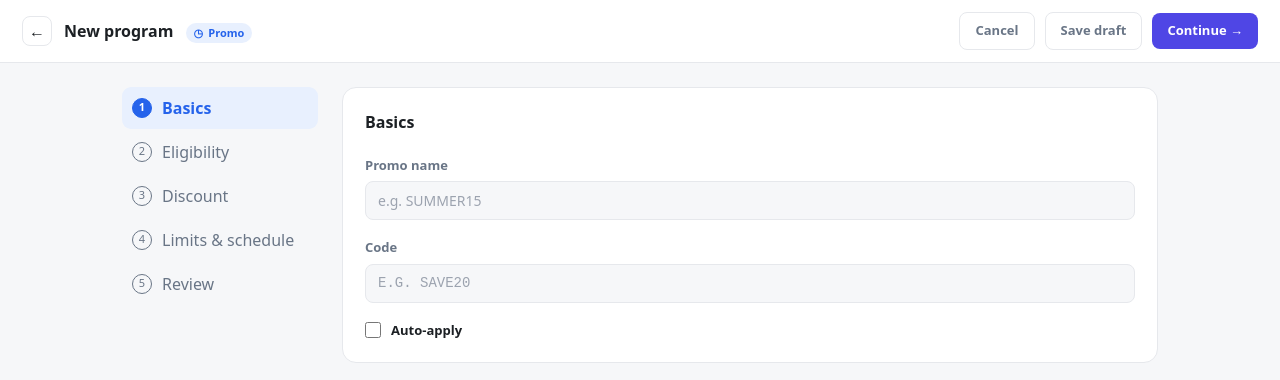
Scenario: Back from Eligibility goes to Basics
This screenshot has width=1280, height=380.
Click the button "Continue →" at (1205, 31), box [1152,13,1258,48]
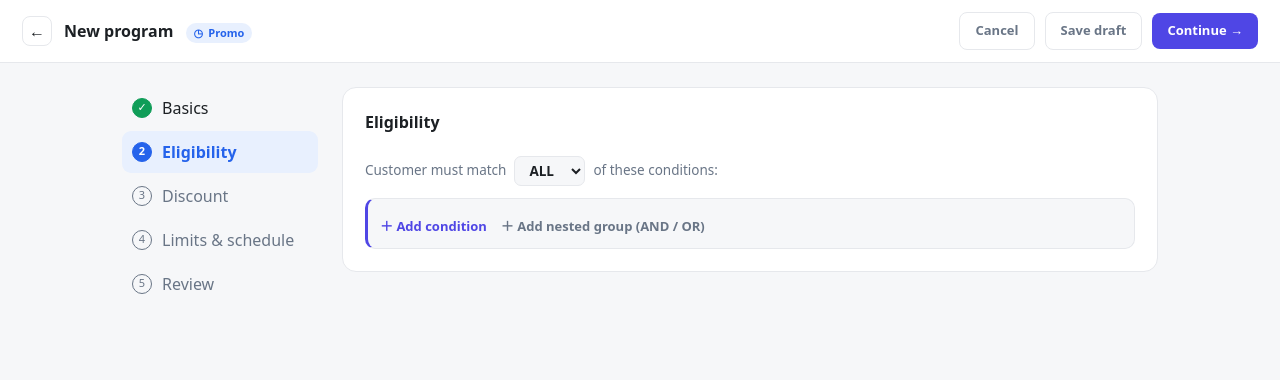
Click the button named "Go back" at (37, 31), box [22,16,52,46]
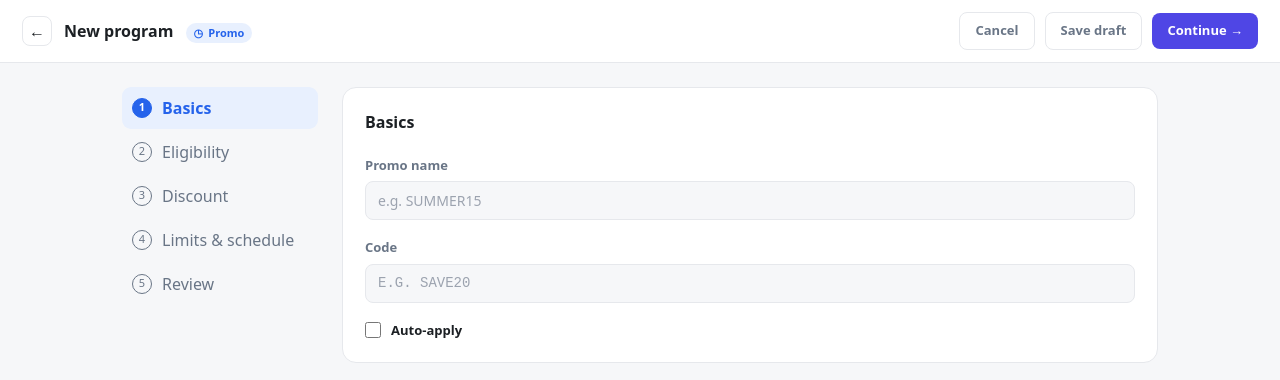
Now the field labelled "Promo name" is shown, box [365,181,1135,220]
